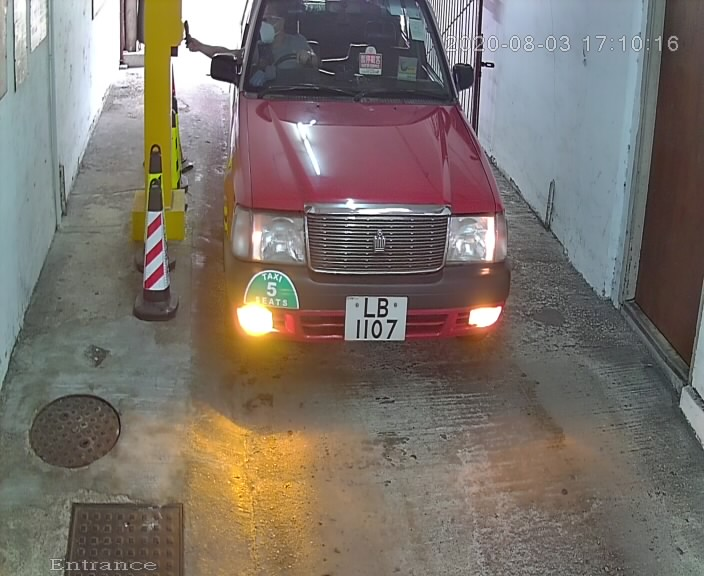taxi: (196, 1, 523, 366)
taxi_mark: (239, 264, 307, 316)
